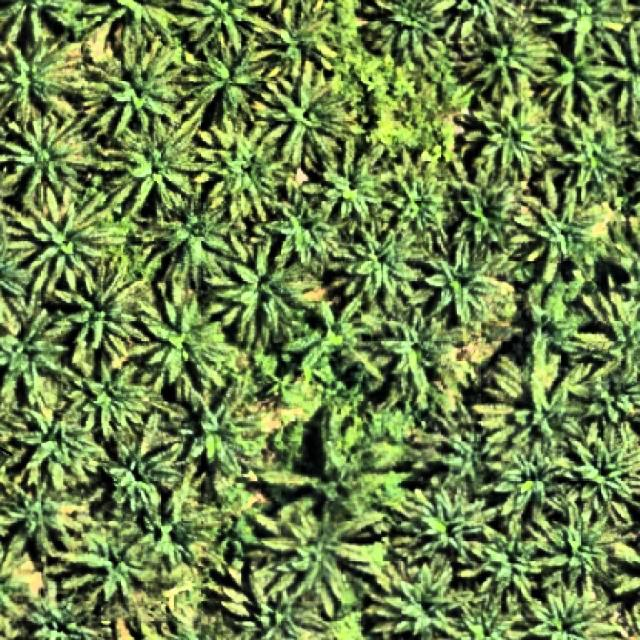Kelapa_Sawit: (255, 492, 393, 622), (472, 326, 590, 468), (206, 228, 329, 357), (248, 55, 370, 179), (130, 278, 244, 406), (92, 104, 210, 220), (388, 476, 506, 592), (71, 32, 191, 143), (4, 186, 114, 305), (43, 516, 174, 610), (138, 183, 248, 294), (512, 170, 612, 290), (476, 436, 578, 553), (525, 492, 630, 603), (0, 391, 109, 497), (52, 254, 152, 368), (192, 116, 292, 230), (175, 24, 282, 130), (452, 0, 560, 102), (457, 514, 560, 618), (452, 87, 560, 184), (92, 408, 186, 518), (172, 369, 260, 486), (284, 289, 390, 386), (305, 126, 398, 234), (512, 273, 596, 384), (328, 221, 428, 314), (426, 225, 512, 333), (373, 302, 456, 412), (61, 352, 161, 443), (260, 177, 351, 277), (448, 158, 526, 274), (125, 478, 212, 576), (532, 28, 620, 122), (548, 106, 634, 202), (382, 164, 455, 238)
